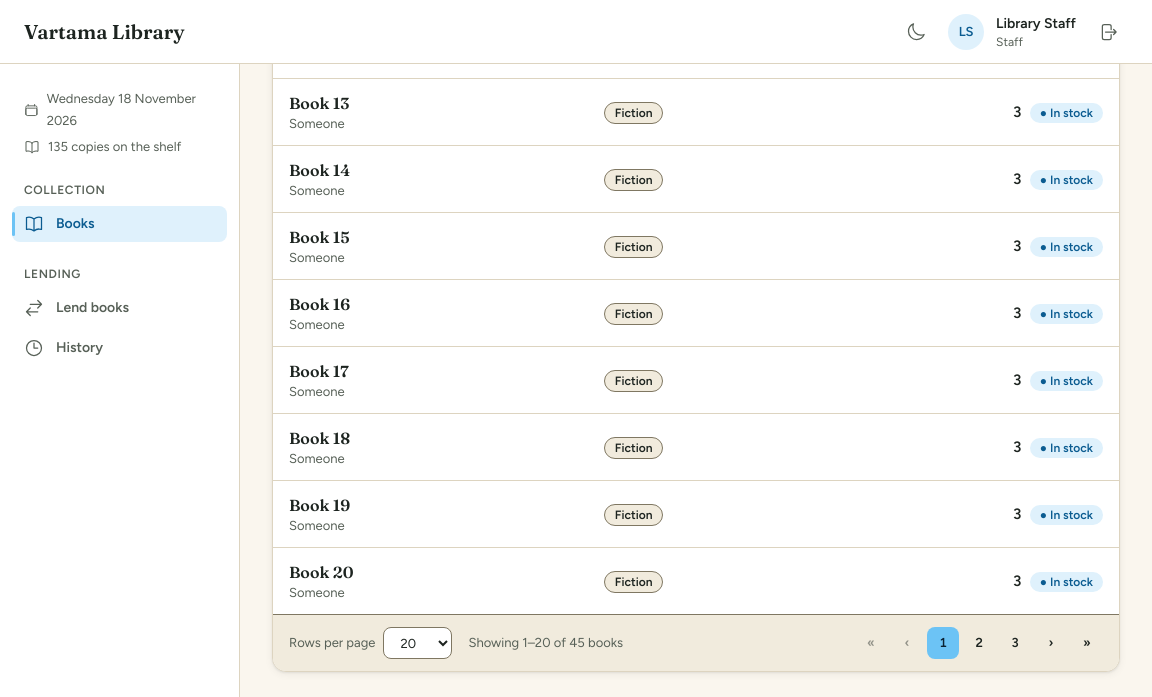
Test: Pagination › moves between pages with the arrows and the page numbers
(page scrolled)
Click the button named "Next page": (1051, 643) x1=1035 y1=627 x2=1067 y2=659
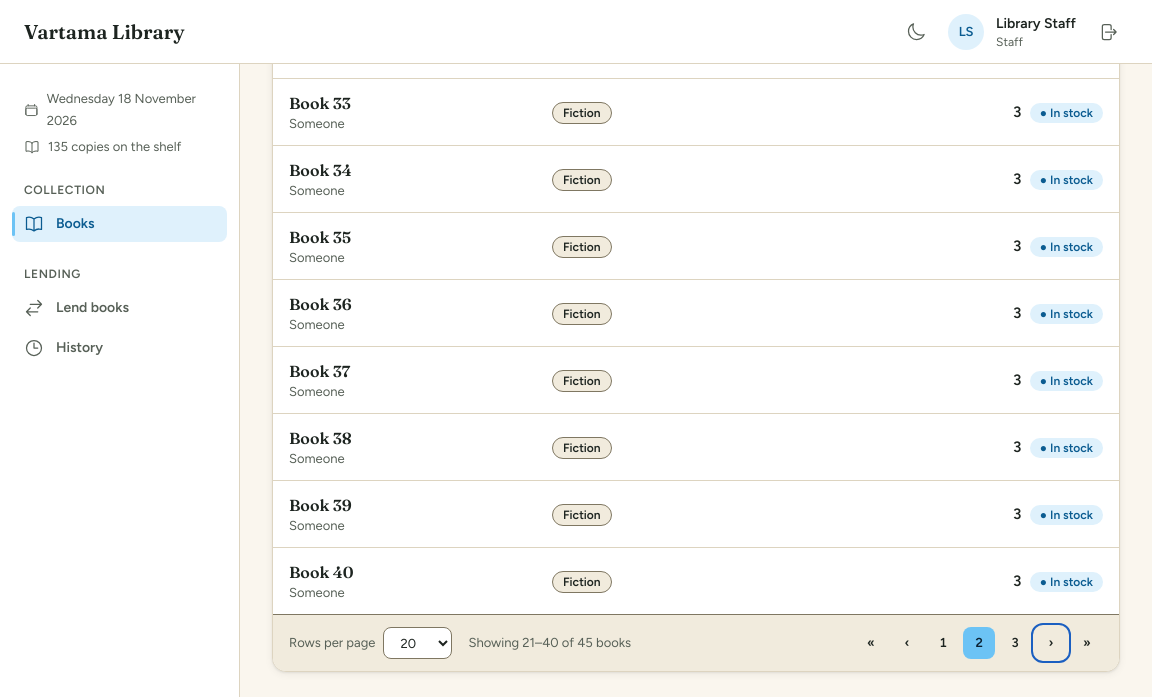
Expected: the button named "Page 2" is marked as current, x1=963 y1=627 x2=995 y2=659
Click the button named "Page 3": (1015, 643) x1=999 y1=627 x2=1031 y2=659
(page scrolled)
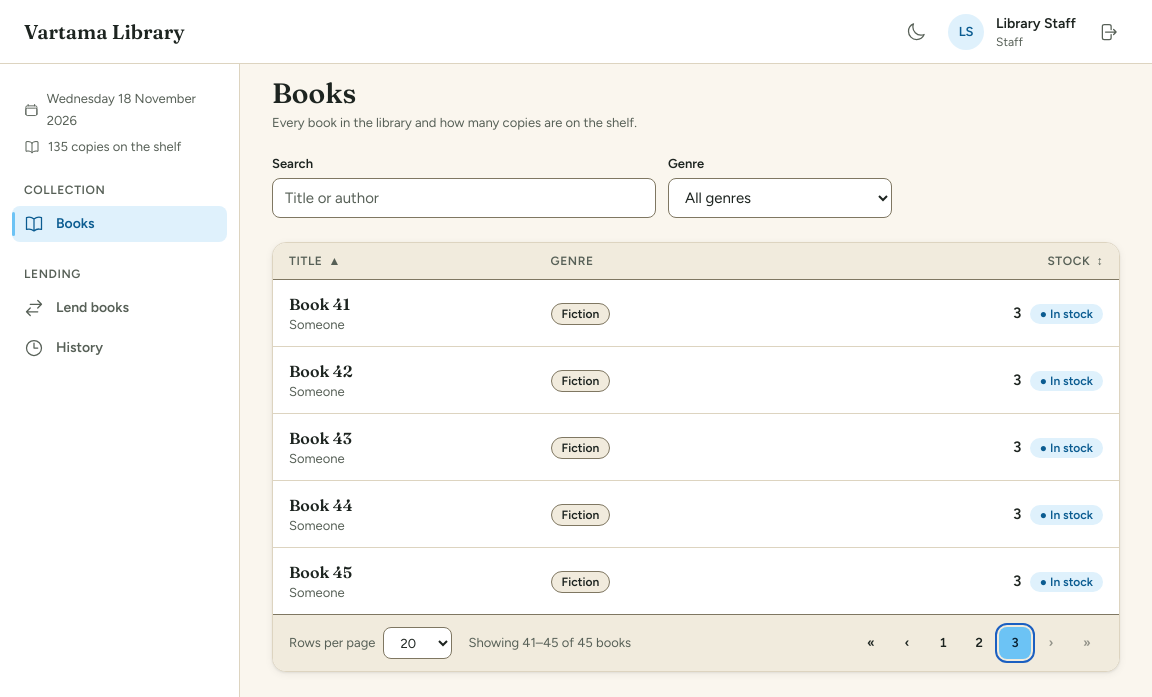
Expected: the button named "Next page" is disabled, x1=1035 y1=627 x2=1067 y2=659
Expected: the text "Showing 41–45 of 45 books" is shown, x1=468 y1=632 x2=631 y2=654
Click the button named "First page": (871, 643) x1=855 y1=627 x2=887 y2=659
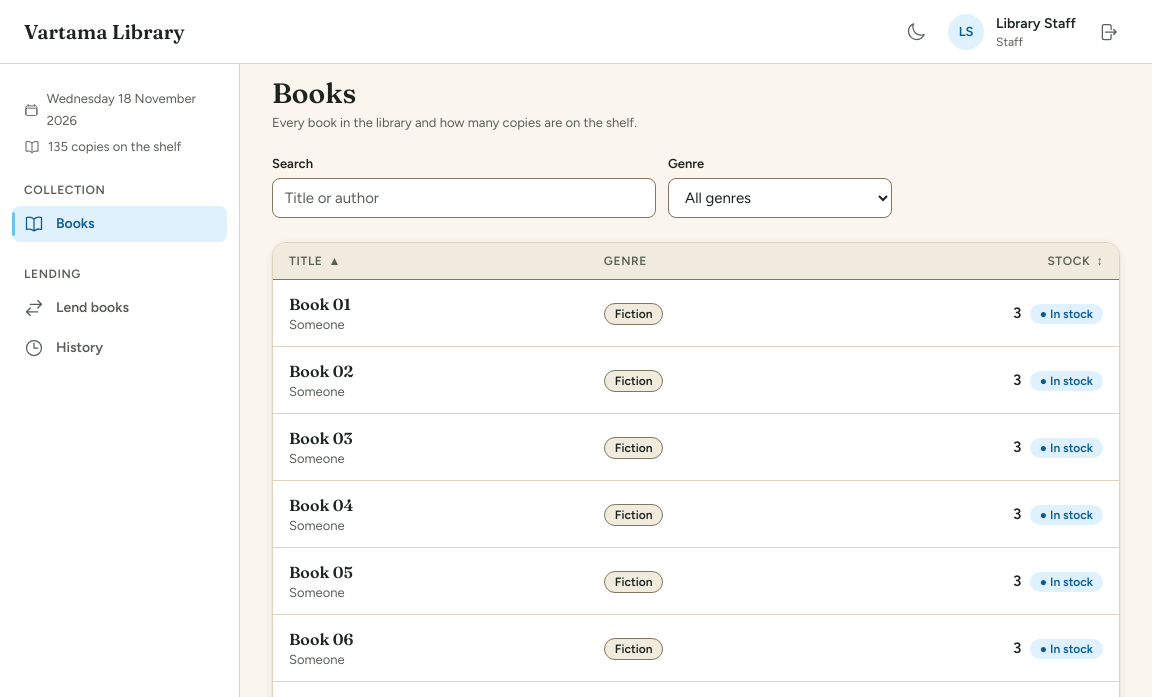
Expected: the text with class "font-display" reads "Book 01", x1=289 y1=294 x2=351 y2=314
